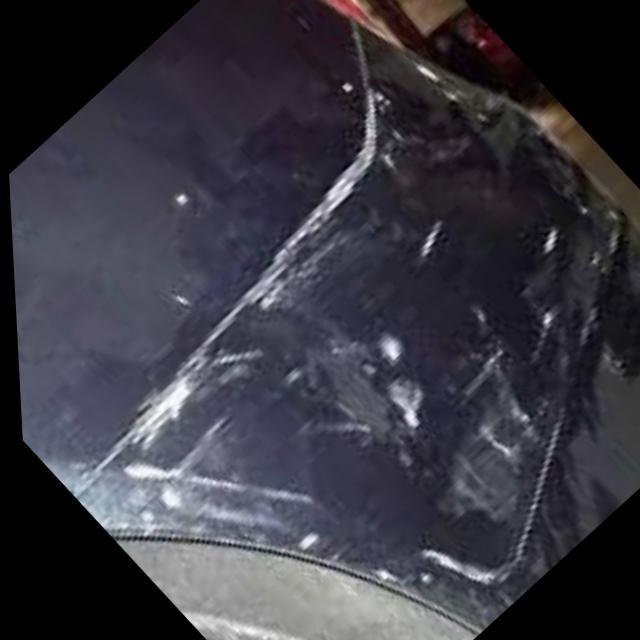crack: (368, 535, 527, 607)
dent: (288, 307, 437, 456)
rub: (49, 73, 385, 503), (105, 409, 310, 558), (443, 343, 542, 518)
